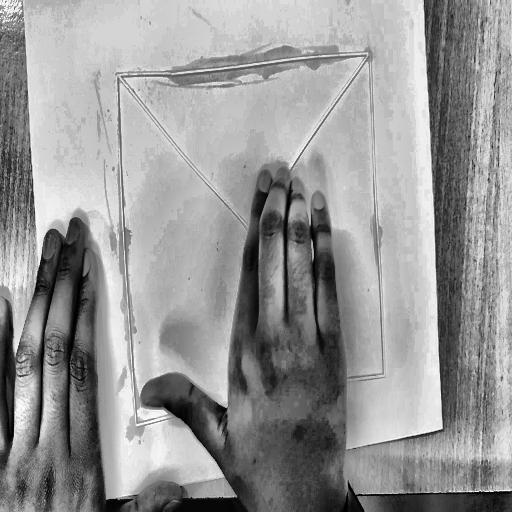bottom_left: (61, 497, 67, 508)
bottom_right: (439, 423, 446, 436)
envelop: (108, 44, 398, 436)
